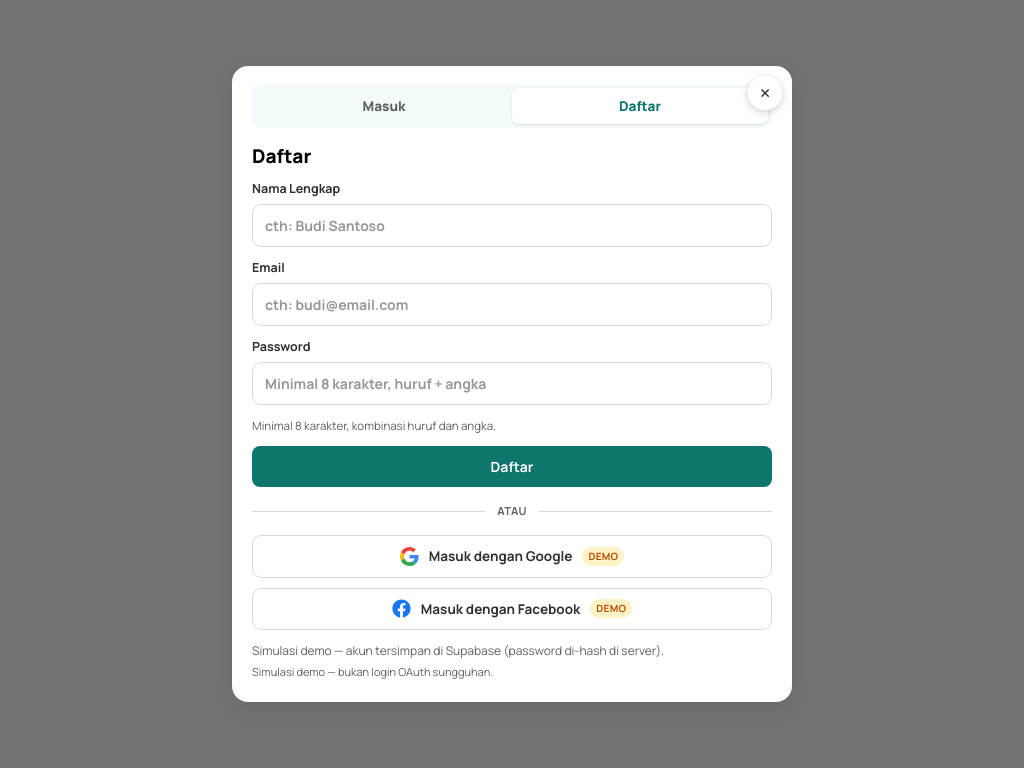
it: AuthModal › menolak password kurang dari 8 karakter saat mendaftar
The image size is (1024, 768).
Type "Siti Aminah" into the field labelled "Nama Lengkap". click: x=512, y=226
box: [252,204,772,247]
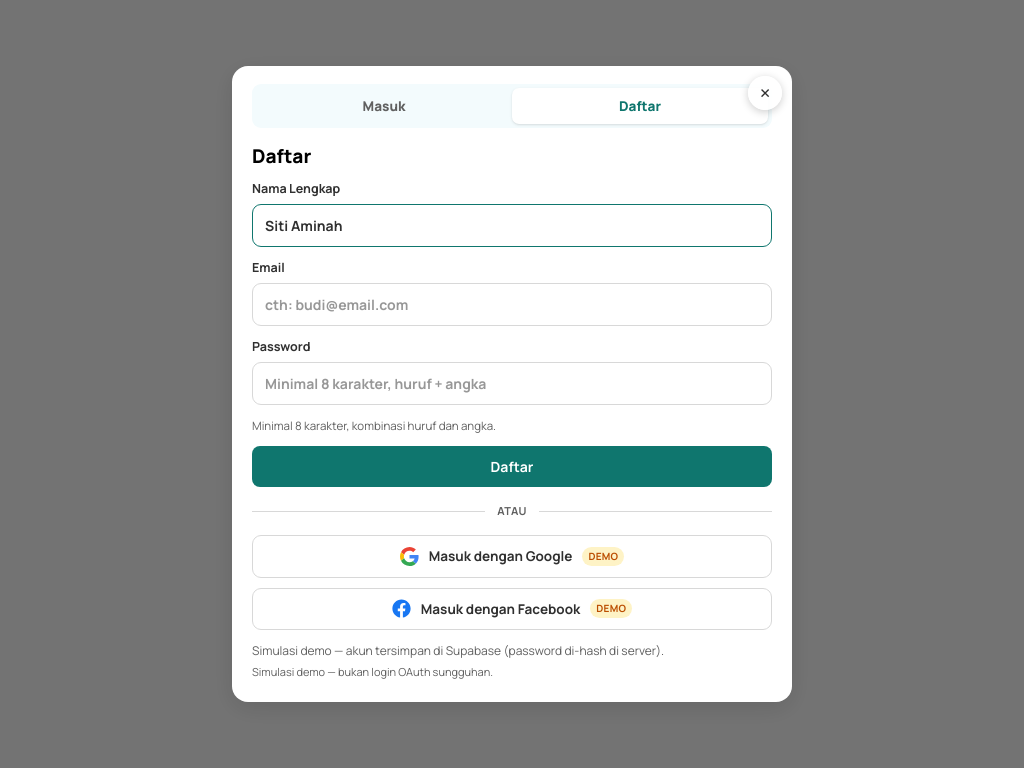
Type "siti@email.com" into the field labelled "Email". click: x=512, y=304
box: [252,283,772,326]
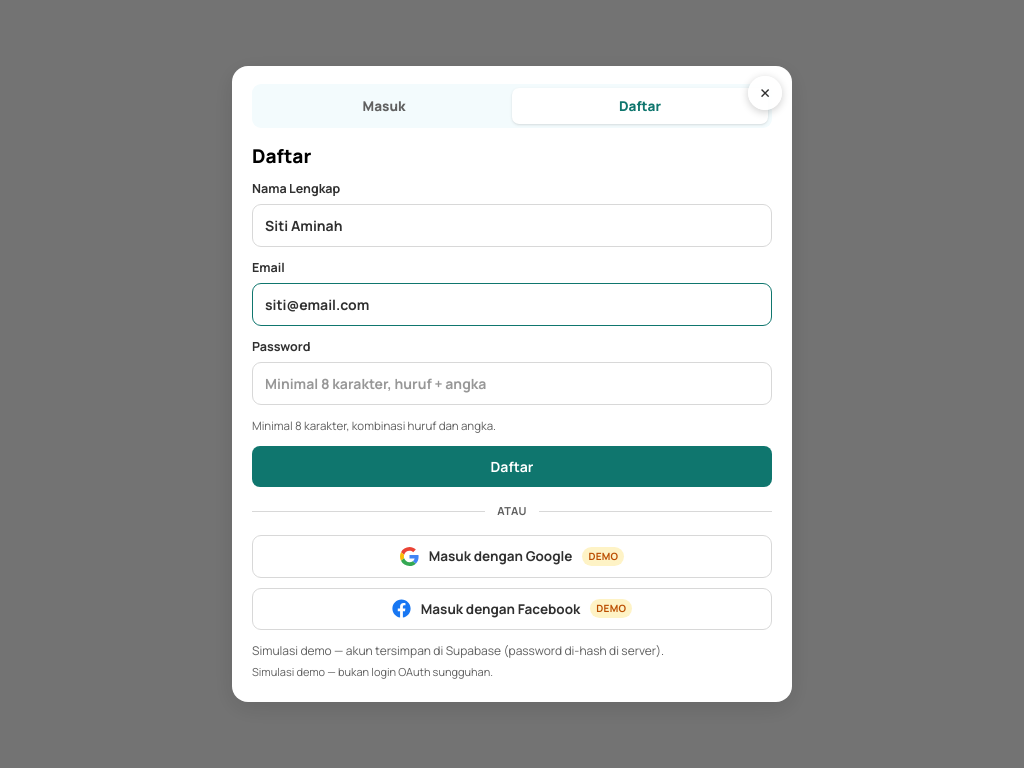
Type "rahasi1" into the password field labelled "Password". click: x=512, y=383
box: [252,362,772,405]
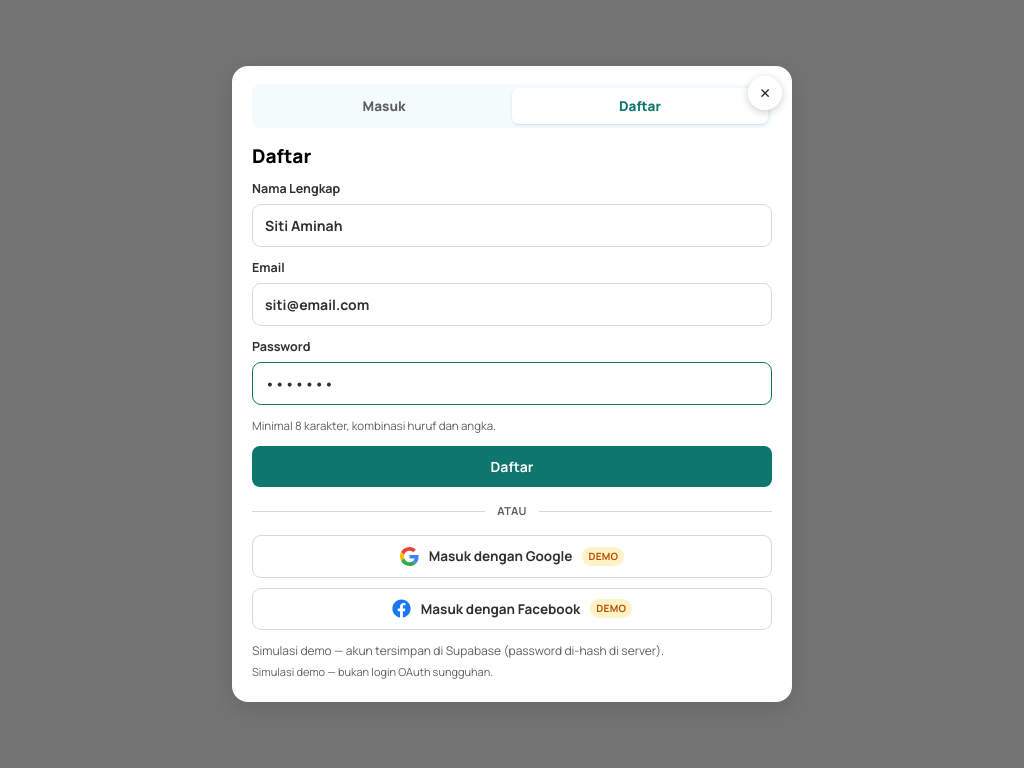
Click the button "Daftar" below "Email". click: x=512, y=466
box: [252,446,772,487]
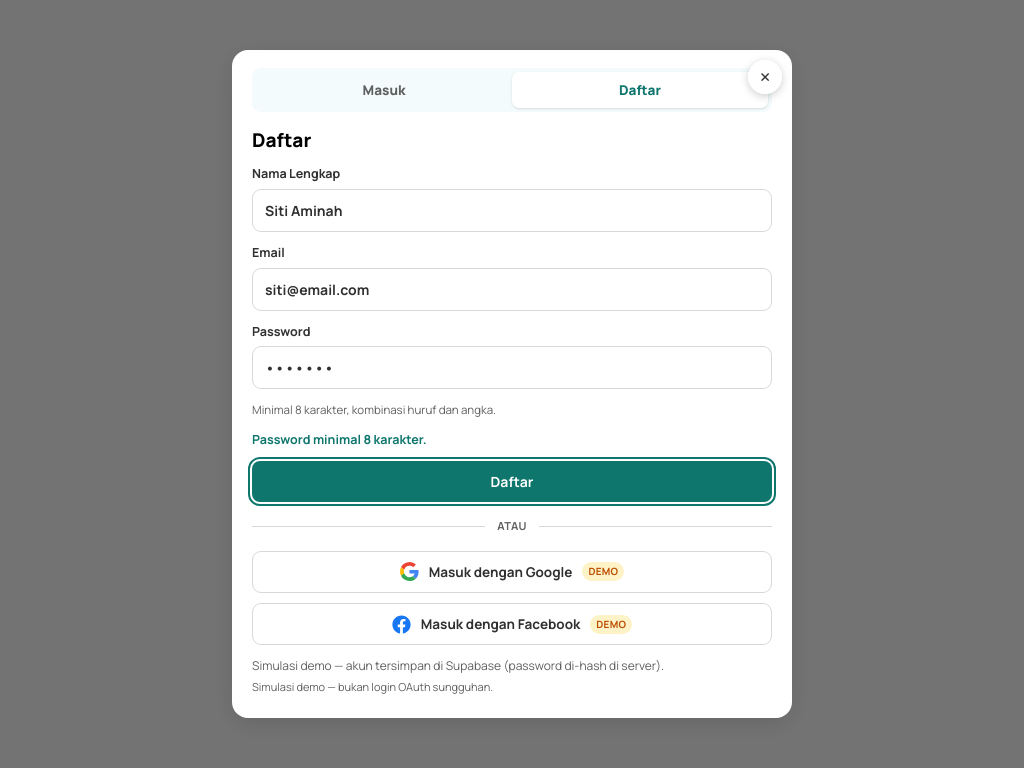
Check: the message reads "Password minimal 8 karakter.", box [252,431,427,448]
